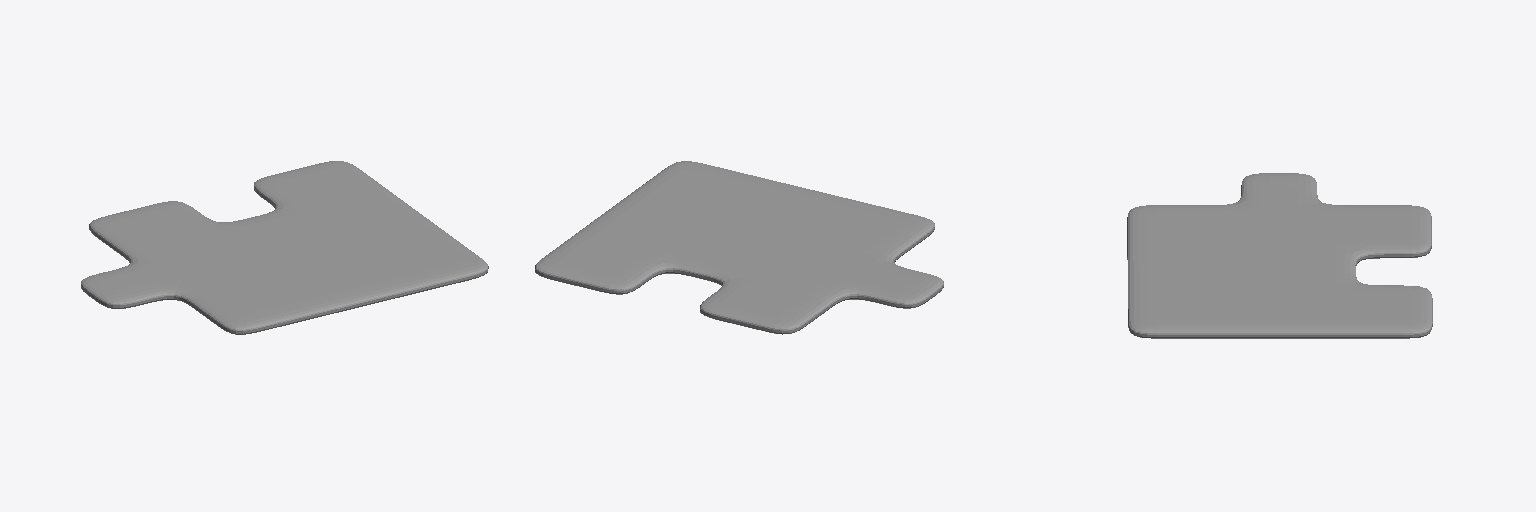
3 views of the same model, side by side, from view 1: azimuth 30°, elevation 25°; view 2: azimuth 150°, elevation 25°; view 3: azimuth 270°, elevation 25° (orthographic).
Parts seen in each view (by area): view 1: Puzzle.019_Puzzle.019_GoldenEggMaterial; view 2: Puzzle.019_Puzzle.019_GoldenEggMaterial; view 3: Puzzle.019_Puzzle.019_GoldenEggMaterial.
Boxes of the visible parts, x1,y1,x2,y2 form: Puzzle.019_Puzzle.019_GoldenEggMaterial: [81, 161, 488, 334]; Puzzle.019_Puzzle.019_GoldenEggMaterial: [535, 161, 943, 334]; Puzzle.019_Puzzle.019_GoldenEggMaterial: [1127, 173, 1432, 338].
Size of the model in its own units: 0.3125 by 0.0092 by 0.2512.